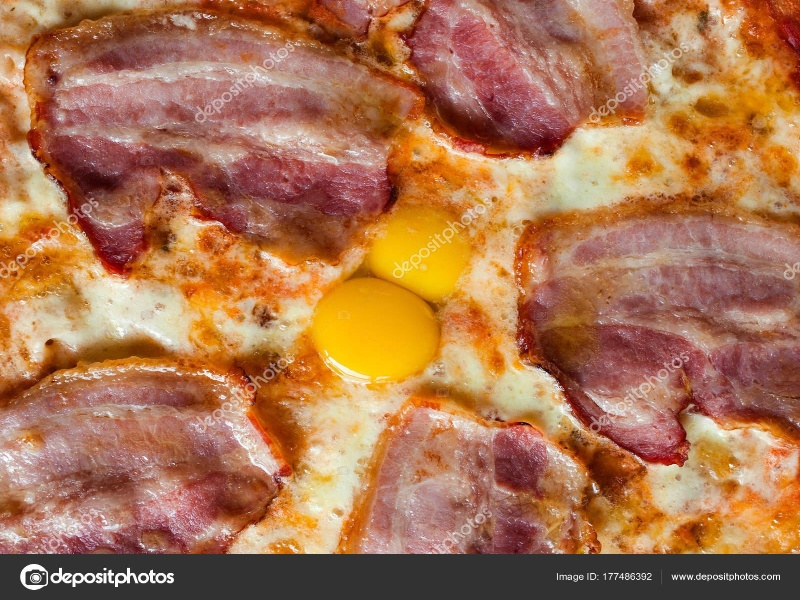oeuf: (295, 275, 457, 387), (369, 207, 490, 297)
